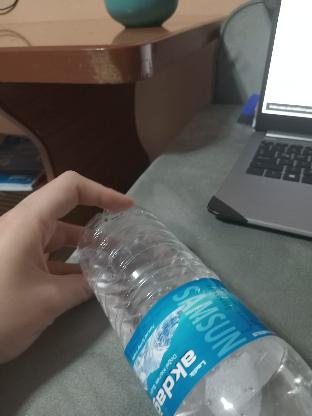Plastic Bottle: (64, 204, 312, 416)
